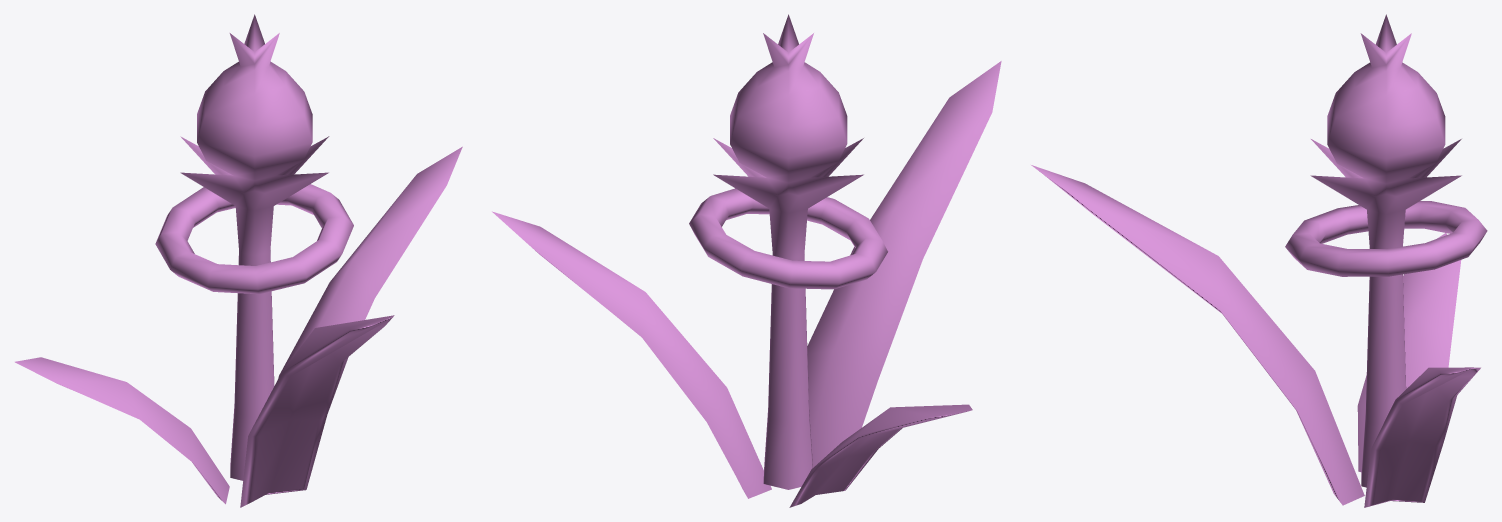
Rendered from planetPlant_stage1.fbx.
3 views of the same model, side by side, from view 1: azimuth 30°, elevation 25°; view 2: azimuth 150°, elevation 25°; view 3: azimuth 270°, elevation 25° (orthographic).
Parts seen in each view (by area): view 1: sprout_plaplant_stem, sprout_plaplant_leaf01, papple_stemRing03, sprout_plaplant_leaf03, sprout_plaplant_leaf02; view 2: sprout_plaplant_stem, sprout_plaplant_leaf01, sprout_plaplant_leaf03, papple_stemRing03, sprout_plaplant_leaf02; view 3: sprout_plaplant_stem, sprout_plaplant_leaf01, papple_stemRing03, sprout_plaplant_leaf03, sprout_plaplant_leaf02.
Boxes of the visible parts, left/top/right/bottom form: sprout_plaplant_stem: left=180, top=14, right=329, bottom=480; sprout_plaplant_leaf01: left=240, top=315, right=394, bottom=507; papple_stemRing03: left=155, top=184, right=353, bottom=294; sprout_plaplant_leaf03: left=278, top=146, right=462, bottom=378; sprout_plaplant_leaf02: left=15, top=357, right=229, bottom=504; sprout_plaplant_stem: left=713, top=14, right=863, bottom=489; sprout_plaplant_leaf01: left=807, top=61, right=1001, bottom=467; sprout_plaplant_leaf03: left=492, top=211, right=771, bottom=498; papple_stemRing03: left=689, top=188, right=887, bottom=289; sprout_plaplant_leaf02: left=789, top=404, right=972, bottom=507; sprout_plaplant_stem: left=1310, top=14, right=1461, bottom=487; sprout_plaplant_leaf01: left=1031, top=165, right=1364, bottom=505; papple_stemRing03: left=1285, top=201, right=1487, bottom=276; sprout_plaplant_leaf03: left=1364, top=367, right=1480, bottom=507; sprout_plaplant_leaf02: left=1357, top=233, right=1461, bottom=472.
Bounding box in the file's own units: 39.43 × 37.58 × 33.17.
